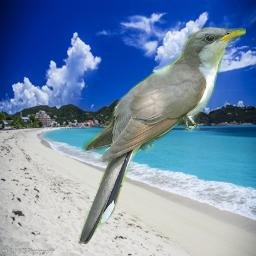Cuckoo: (78, 27, 246, 244)
